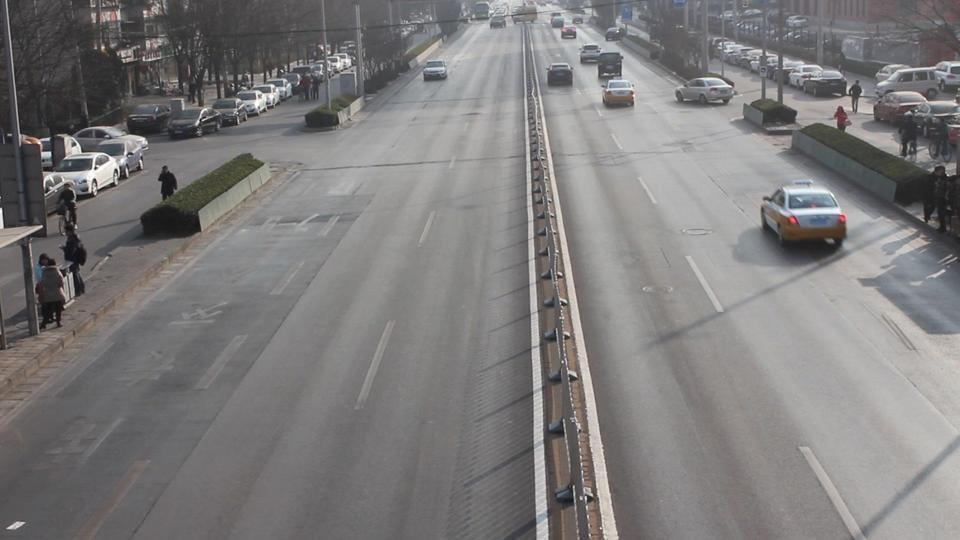car: (759, 182, 848, 247), (47, 152, 119, 199), (83, 137, 148, 178), (876, 66, 947, 100), (871, 90, 931, 125), (72, 126, 134, 157), (166, 106, 223, 139), (675, 76, 735, 105), (37, 134, 82, 170), (797, 66, 847, 96), (126, 103, 174, 134), (905, 98, 960, 125), (786, 63, 827, 91), (602, 78, 637, 109), (209, 99, 247, 126), (597, 51, 623, 85), (236, 89, 267, 116), (546, 62, 574, 87), (254, 82, 281, 105), (267, 80, 292, 103), (423, 61, 449, 81), (580, 45, 602, 63), (604, 24, 623, 40), (561, 24, 577, 39)
